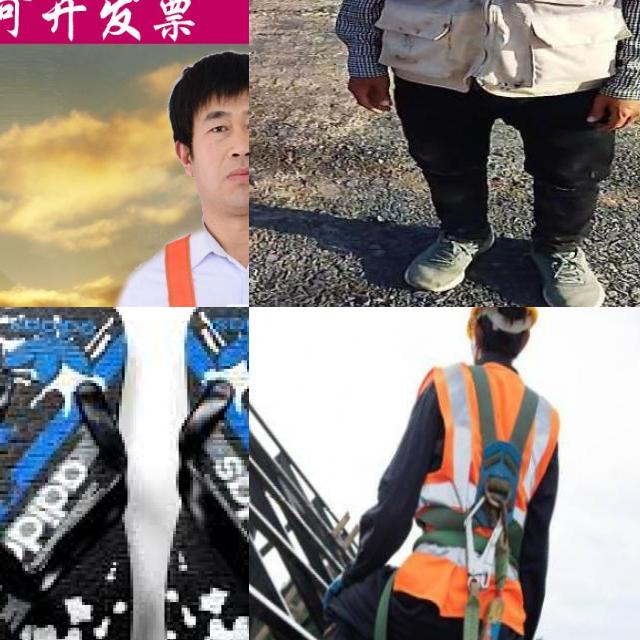Harness: (463, 365, 540, 640)
No_Glasses: (198, 106, 249, 140)
Sandals: (0, 307, 249, 640)
hand_noglove: (579, 73, 640, 135), (337, 68, 404, 121)
person: (323, 0, 640, 307)
